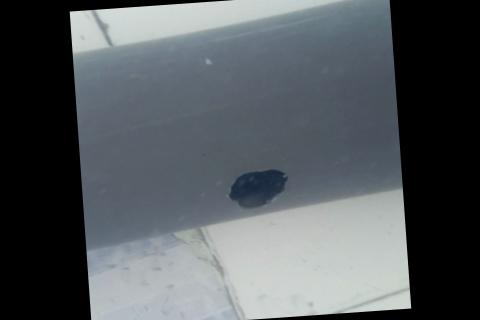kebocoran: (223, 164, 291, 210)
